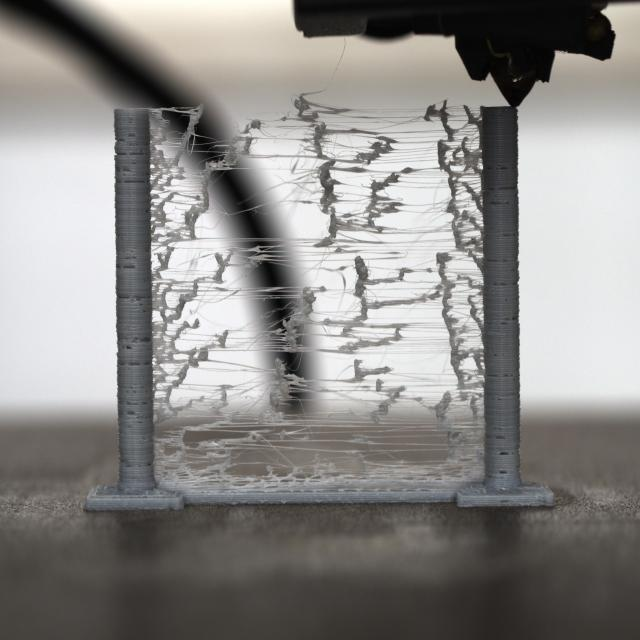Warping: (152, 97, 483, 492)
